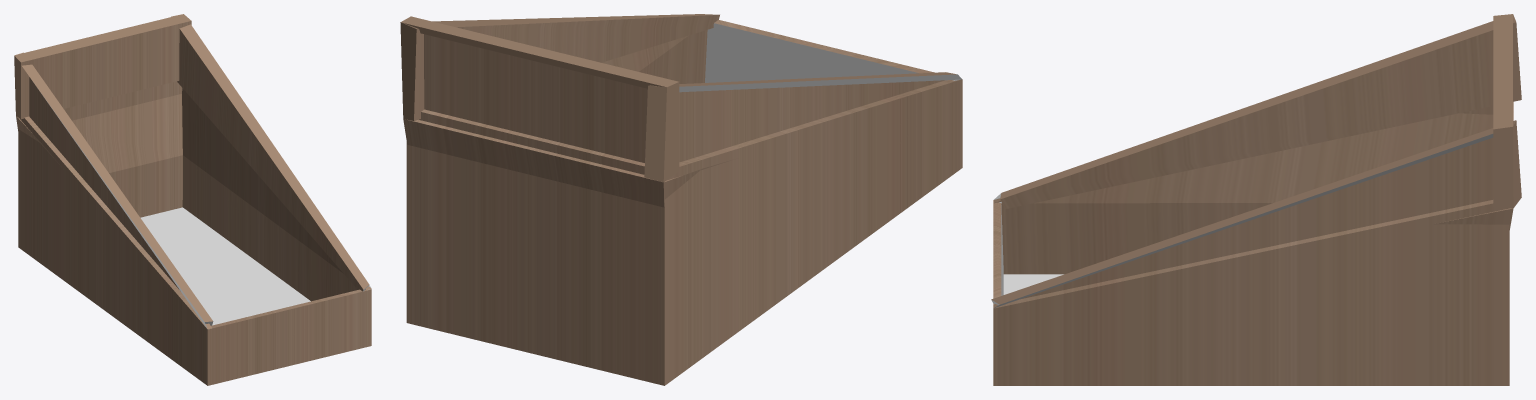
The model's file is VisitingCardHolder4.gltf.
3 views of the same model, side by side, from view 1: azimuth 30°, elevation 25°; view 2: azimuth 150°, elevation 25°; view 3: azimuth 270°, elevation 25° (orthographic). The views are drawn at different scales.
Parts seen in each view (by area): view 1: Plane; view 2: Plane; view 3: Plane.
Boxes of the visible parts, x1,y1,x2,y2 form: Plane: (14, 14, 371, 385); Plane: (400, 14, 962, 385); Plane: (991, 14, 1521, 385).
Size of the model in its own units: 2.08 by 2.23 by 4.11.
Materials: 6 (5 with a texture image).
